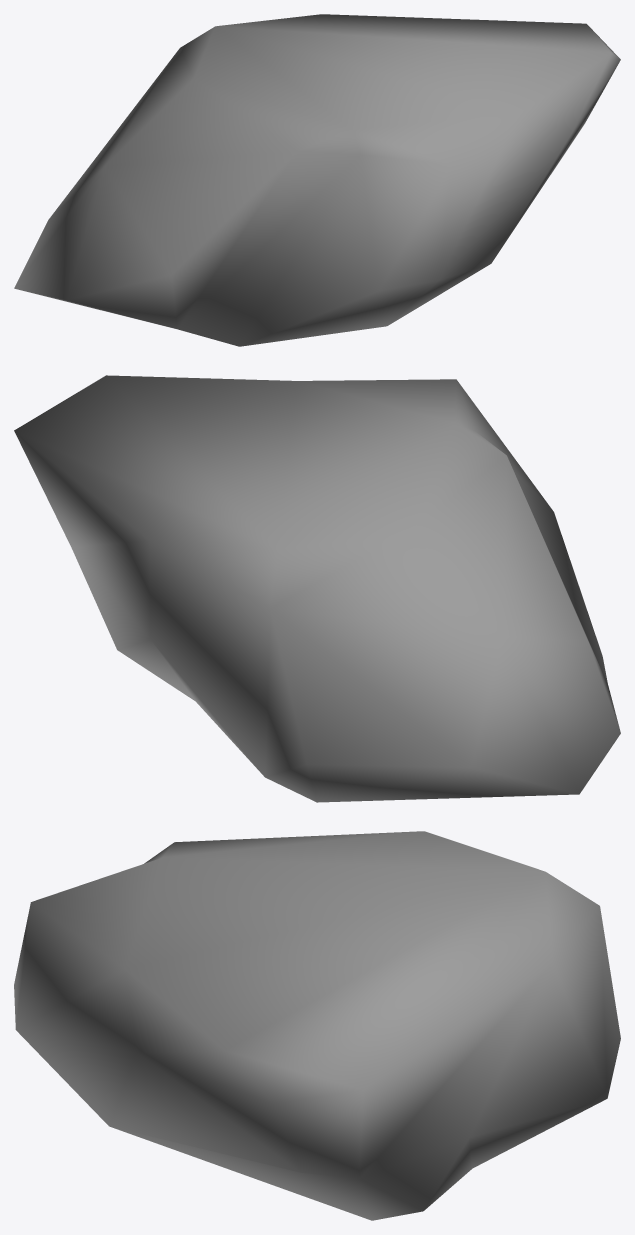
Rendered from SoftRock_04.fbx.
The picture shows the model from 3 angles, top to bottom: view 1: azimuth 30°, elevation 25°; view 2: azimuth 150°, elevation 25°; view 3: azimuth 270°, elevation 25°; orthographic projection. The views are drawn at different scales.
Visible parts, largest first — view 1: SoftRock_04; view 2: SoftRock_04; view 3: SoftRock_04.
Boxes of the visible parts, left/top/right/bottom form: SoftRock_04: left=14, top=14, right=620, bottom=346; SoftRock_04: left=14, top=375, right=620, bottom=802; SoftRock_04: left=14, top=831, right=620, bottom=1220.
Bounding box in the file's own units: 132 × 46.48 × 99.16.
